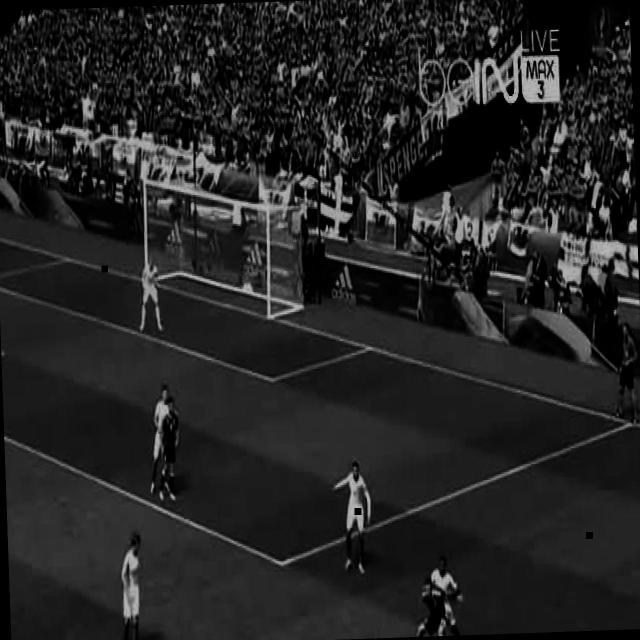player-white: (330, 462, 373, 577), (146, 384, 178, 496), (428, 554, 470, 636), (118, 535, 144, 640), (157, 400, 182, 504), (614, 325, 640, 423), (138, 258, 162, 336), (412, 577, 442, 637)
